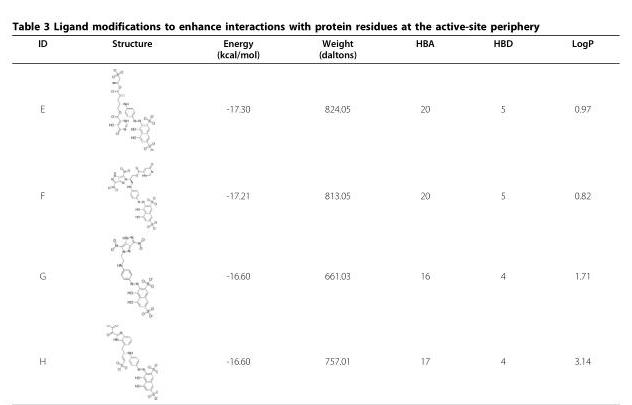table: (37, 37, 592, 366)
table column: (78, 37, 183, 366), (183, 37, 288, 366), (288, 37, 385, 366), (385, 37, 463, 366), (463, 37, 541, 366), (541, 37, 592, 366), (37, 37, 78, 366)
table column header: (37, 37, 592, 81)
table row: (37, 151, 592, 235), (37, 235, 592, 318), (37, 81, 592, 151), (37, 318, 592, 366), (37, 37, 592, 81)
